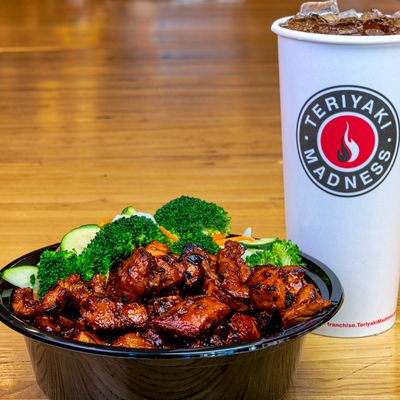curry: (33, 212, 171, 297), (154, 195, 232, 255), (243, 238, 308, 269)
sushi: (3, 197, 344, 400)
